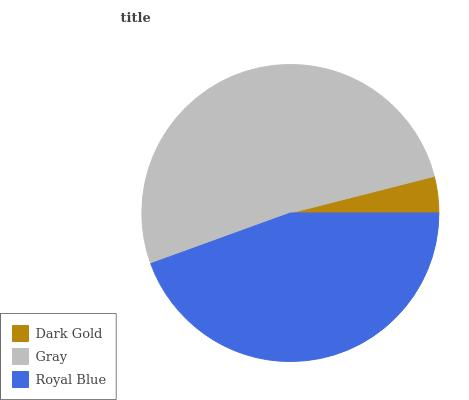legend: (0, 313, 117, 400)
sector: (139, 64, 435, 264), (149, 212, 438, 363), (296, 174, 438, 213)
